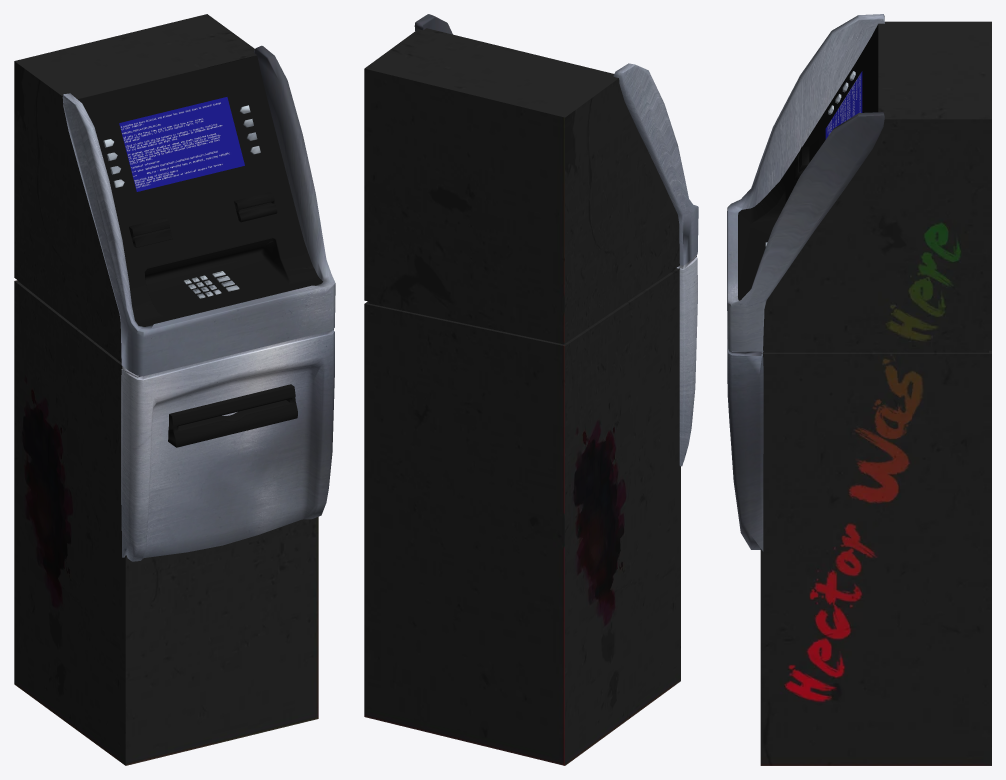
Rendered from atm.glb.
3 renders of one model, left to right at view 1: azimuth 30°, elevation 25°; view 2: azimuth 150°, elevation 25°; view 3: azimuth 270°, elevation 25°, orthographic. The views are drawn at different scales.
Parts seen in each view (by area): view 1: pCube1, pCube2, pCube106, pCube83, pCube82, pCube81, pCube85, pCube20; view 2: pCube1, pCube2; view 3: pCube1, pCube2, pCube106.
Boxes of the visible parts, <box> form: pCube1: <box>14,14,318,765</box>; pCube2: <box>62,45,335,561</box>; pCube106: <box>78,55,322,326</box>; pCube83: <box>168,384,297,447</box>; pCube82: <box>129,218,172,247</box>; pCube81: <box>234,192,277,222</box>; pCube85: <box>184,271,239,298</box>; pCube20: <box>103,105,260,187</box>; pCube1: <box>364,28,680,765</box>; pCube2: <box>414,14,698,466</box>; pCube1: <box>760,21,991,765</box>; pCube2: <box>727,14,884,551</box>; pCube106: <box>738,24,878,300</box>.
Size of the model in its own units: 0.5348 by 1.6 by 0.5884.
6 materials, 6 textured.
